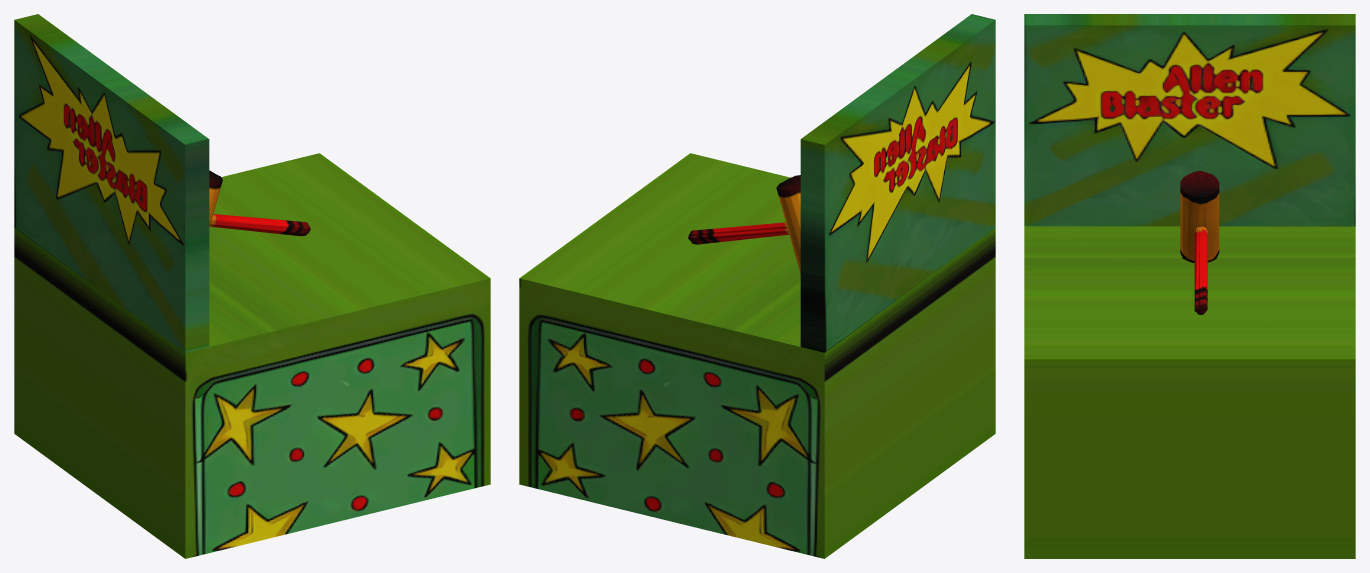
File: HitMach.glb
3 views of the same model, side by side, from view 1: azimuth 30°, elevation 25°; view 2: azimuth 150°, elevation 25°; view 3: azimuth 270°, elevation 25° (orthographic). The views are drawn at different scales.
Parts seen in each view (by area): view 1: HitMach; view 2: HitMach; view 3: HitMach.
Boxes of the visible parts, bbox=[...] form: HitMach: bbox=[14, 14, 490, 558]; HitMach: bbox=[519, 14, 995, 558]; HitMach: bbox=[1024, 14, 1355, 558].
Size of the model in its own units: 157 by 204 by 152.
Materials: 1 (1 with a texture image).
